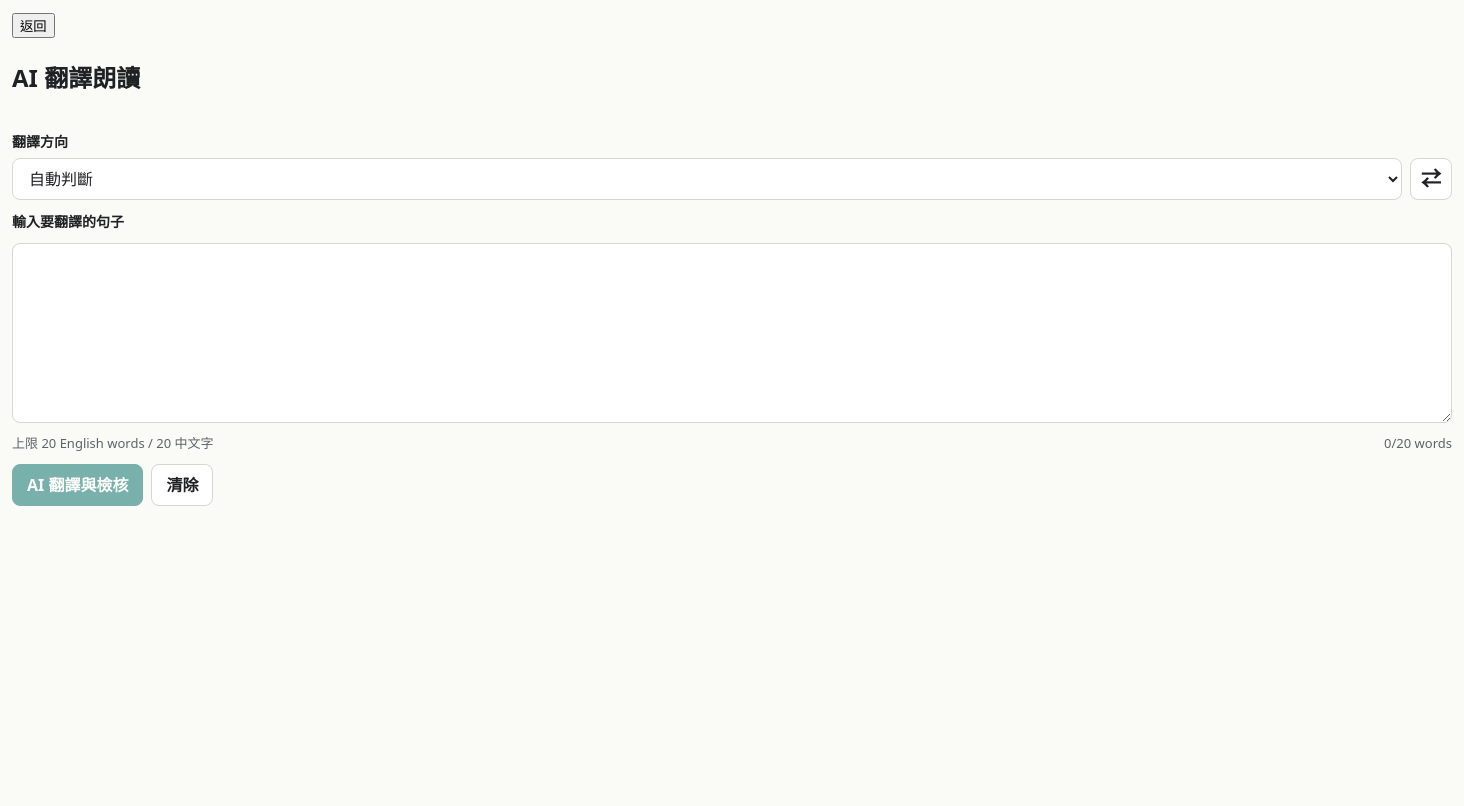
Scenario: TranslationReader › copies only the validated translation
Type "我每天走路去學校。" into the text box labelled "輸入要翻譯的句子" at (732, 333), box [12, 243, 1452, 423]
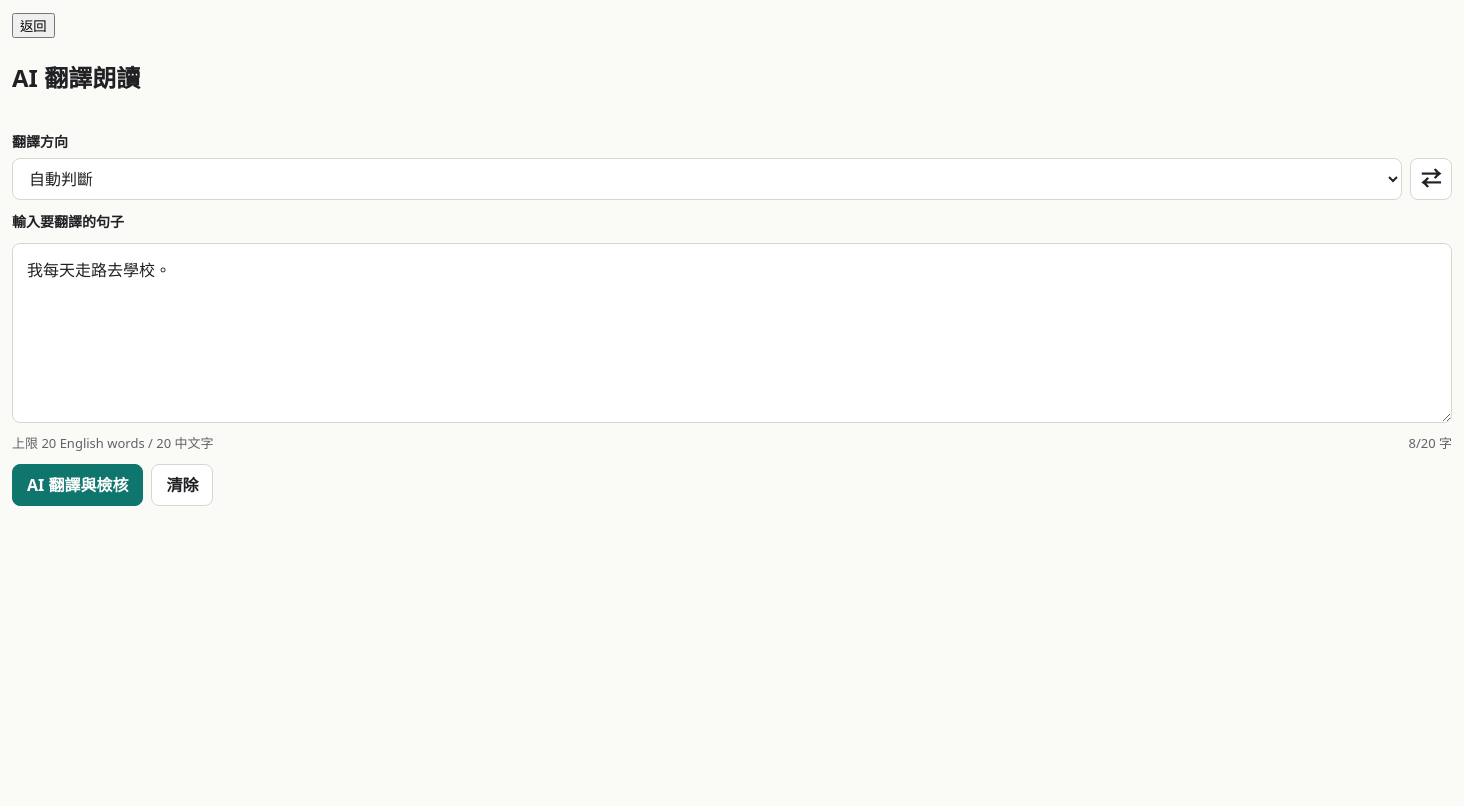
Click the button "AI 翻譯與檢核" at (78, 485), box [12, 464, 143, 506]
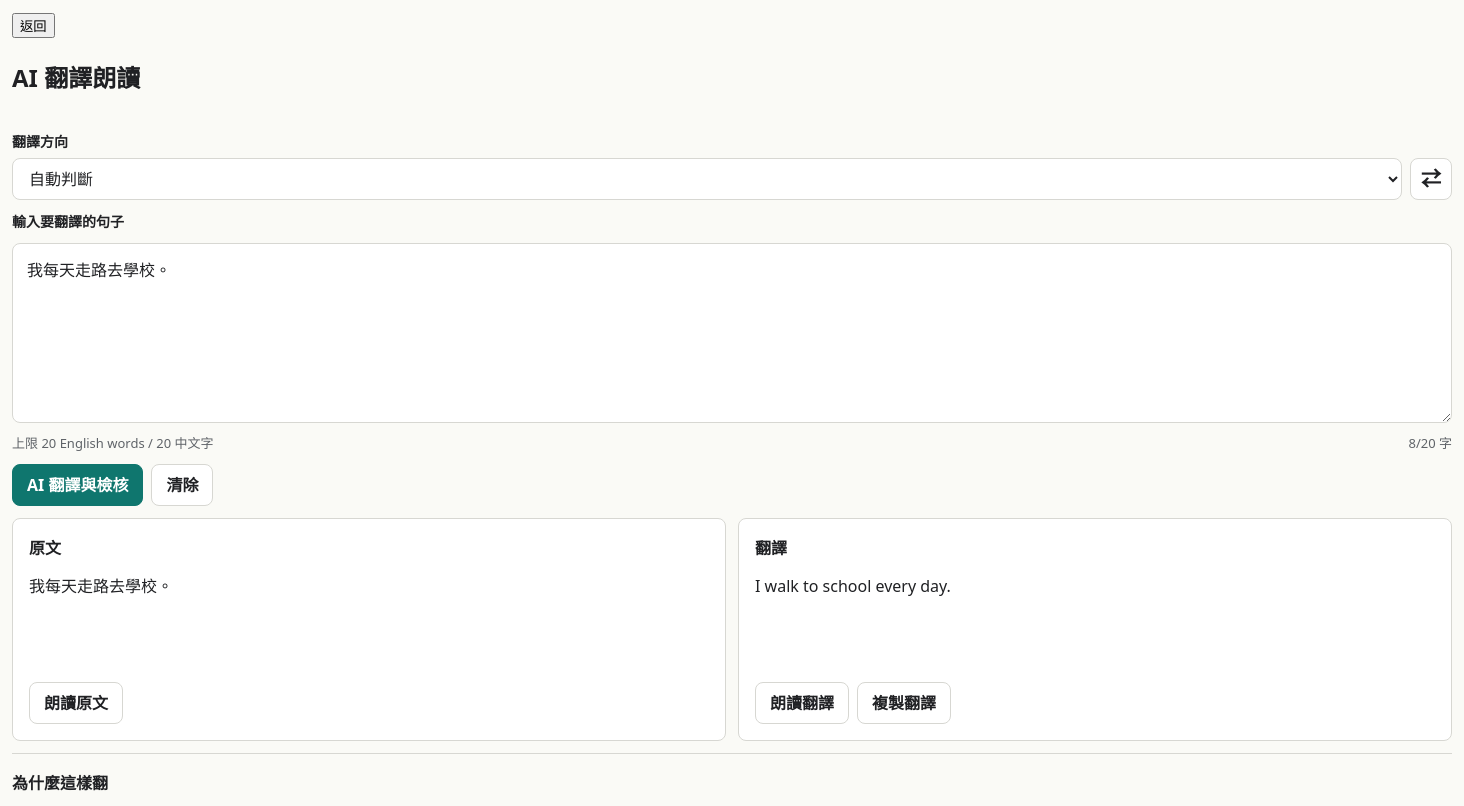
Click the button "複製翻譯" at (904, 703), box [857, 682, 951, 724]
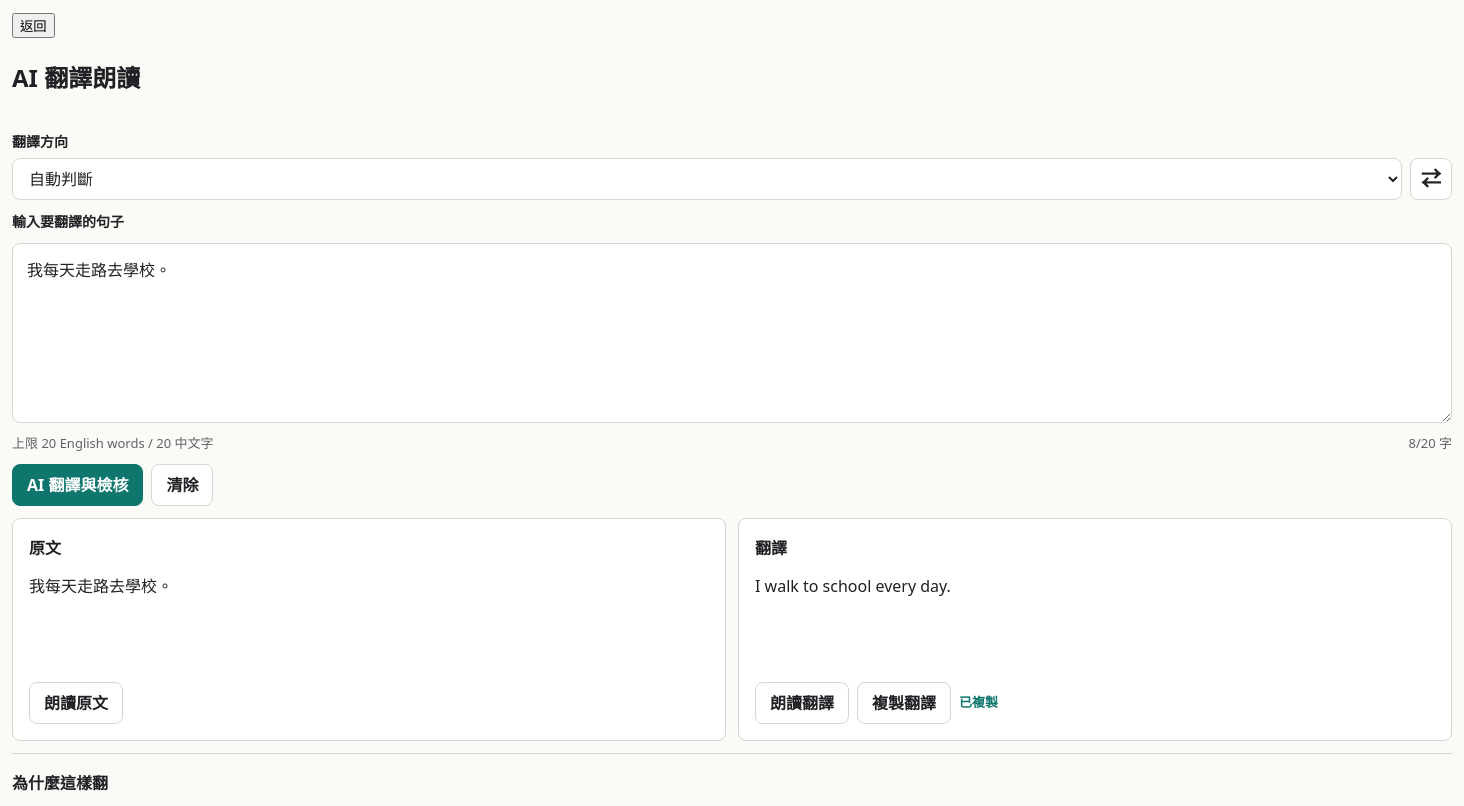
Check: the text "已複製" is shown, box [959, 692, 998, 714]
